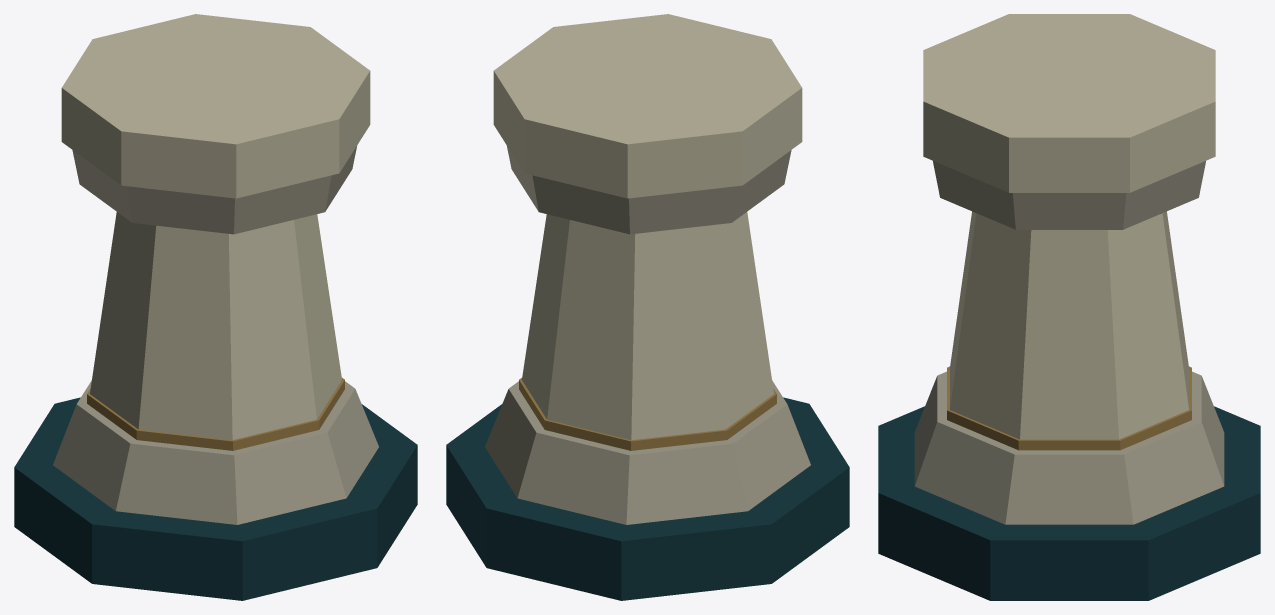
The model's file is WP_A16_pillar_broken_v02.glb.
3 views of the same model, side by side, from view 1: azimuth 30°, elevation 25°; view 2: azimuth 150°, elevation 25°; view 3: azimuth 270°, elevation 25° (orthographic).
Visible parts, largest first — view 1: Pillar.002; view 2: Pillar.002; view 3: Pillar.002.
Boxes of the visible parts, x1=… form: Pillar.002: x1=14, y1=14, x2=417, y2=600; Pillar.002: x1=446, y1=14, x2=849, y2=600; Pillar.002: x1=878, y1=14, x2=1260, y2=600.
Bounding box in the file's own units: 1.26 × 1.61 × 1.26.
